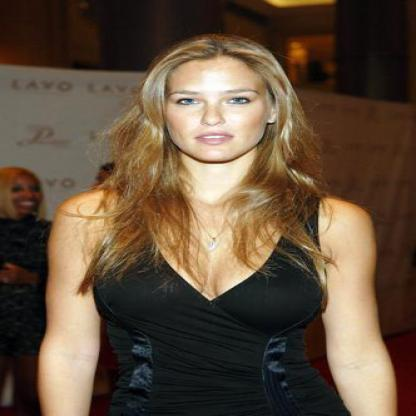long-hair: (99, 163, 323, 206)
